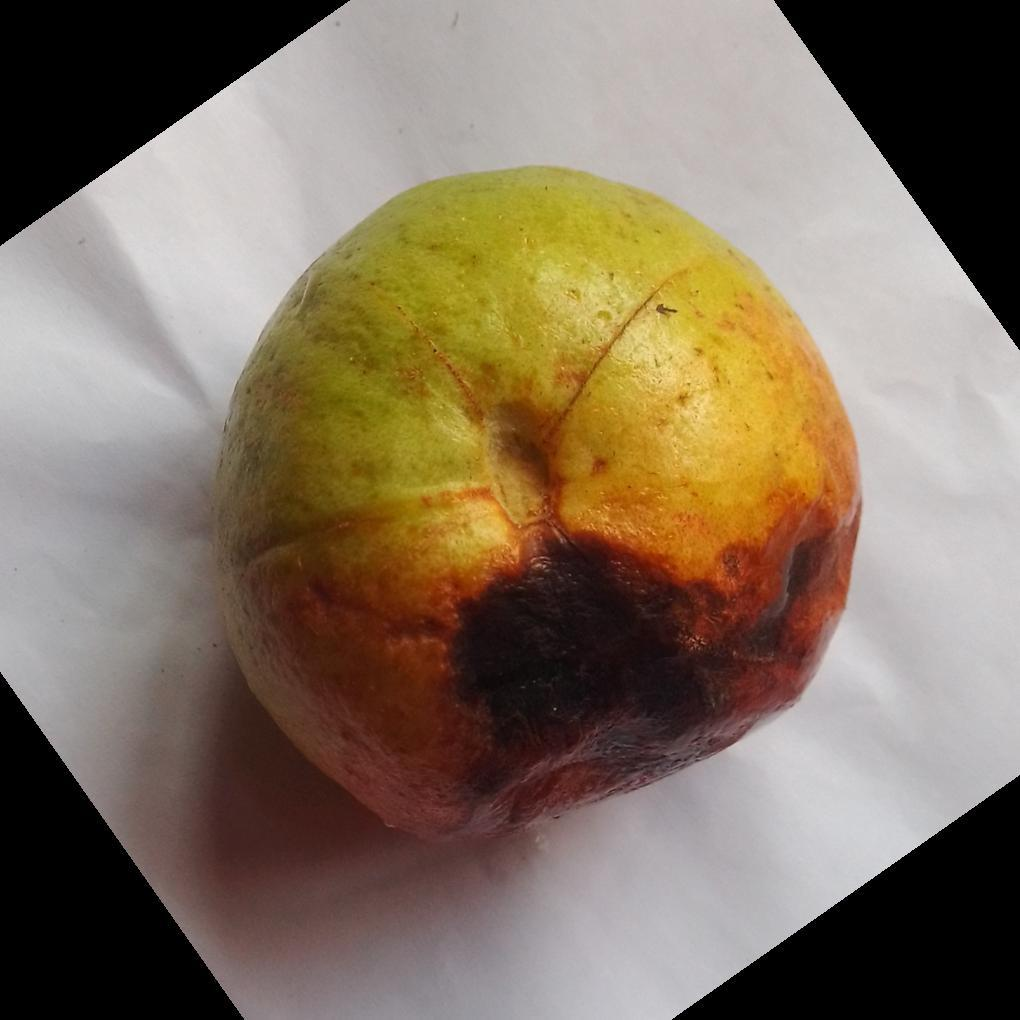FreshOrange: (210, 165, 864, 850)
